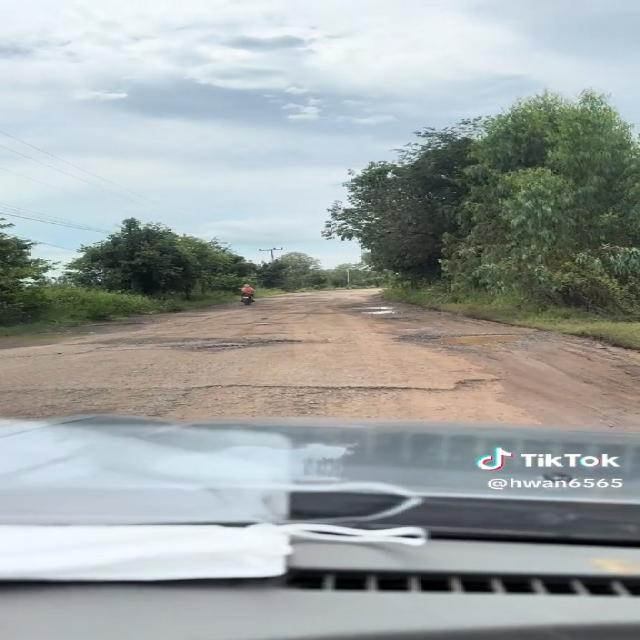Poth-hole: (179, 377, 519, 409)
